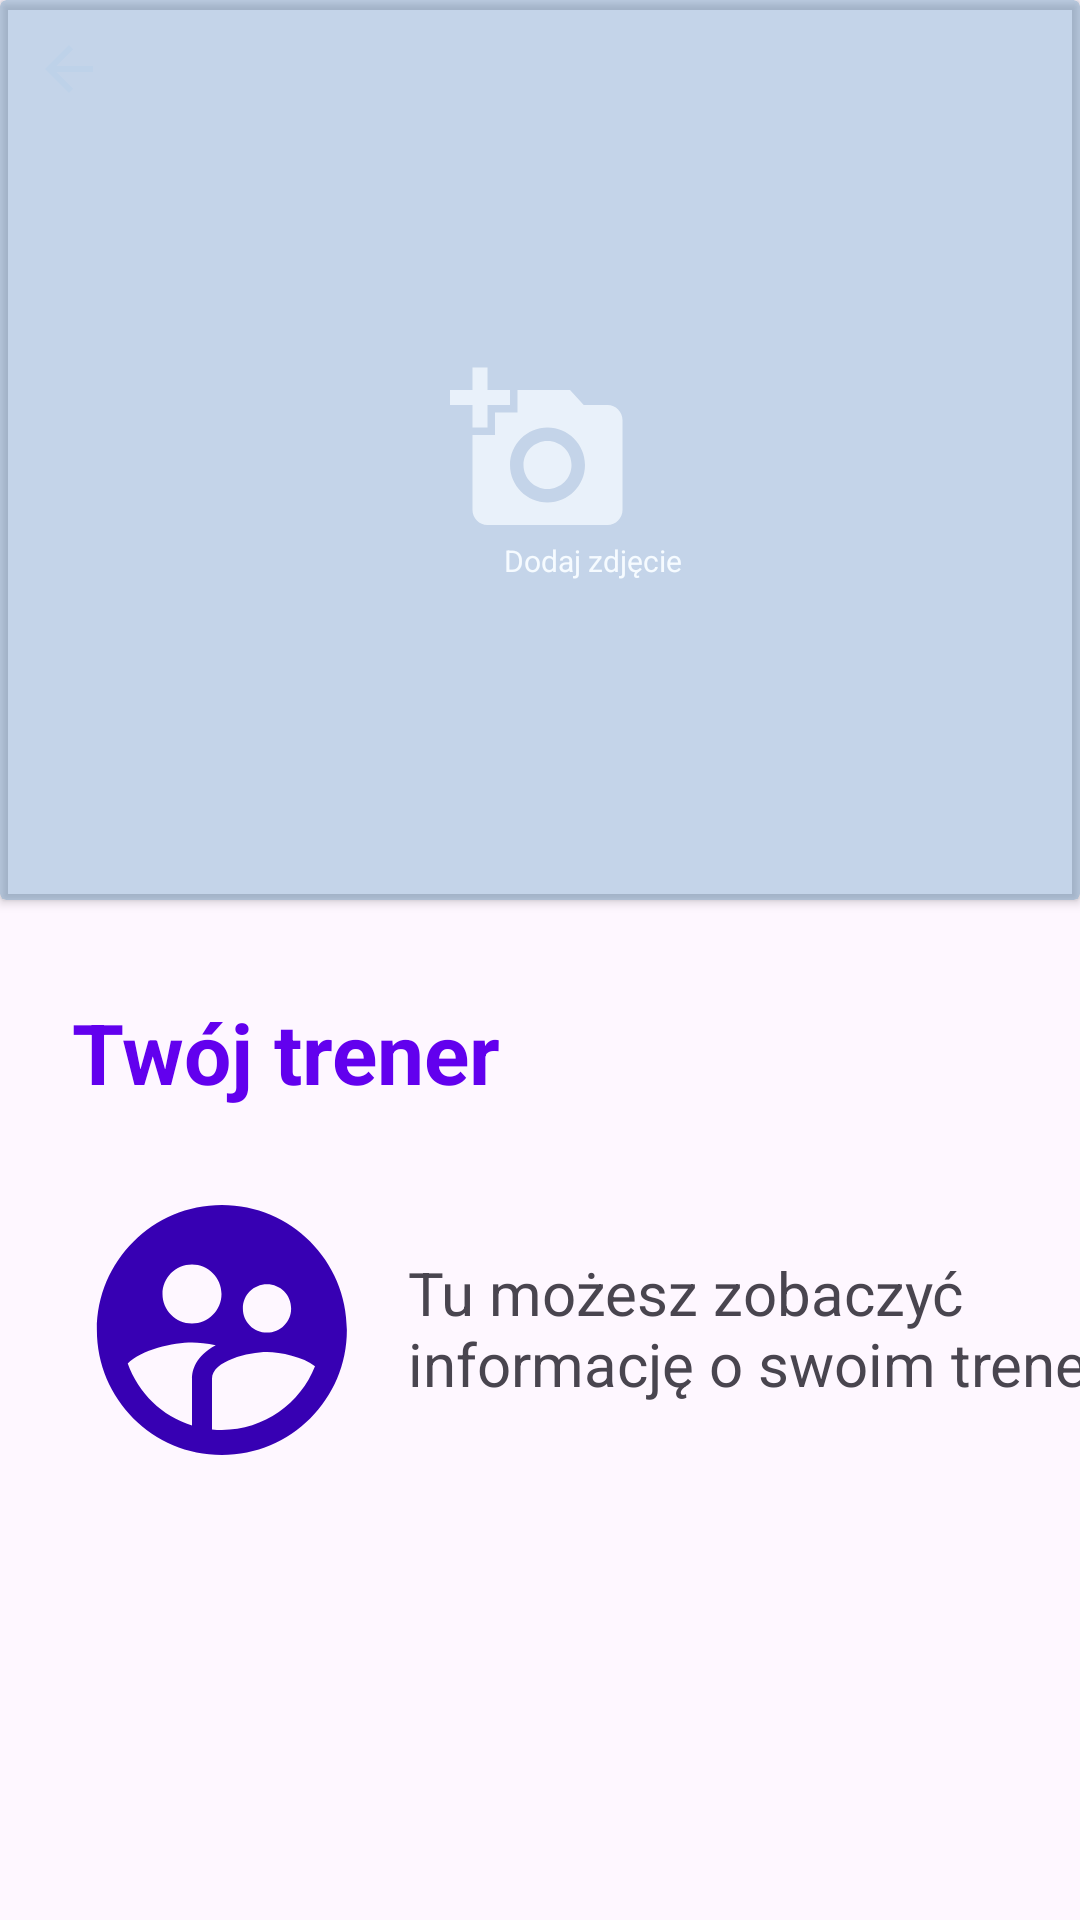

Named icons in this screenshot (1080px x 1920px) and their bounding boxes, (x1, y1, x2, y2):
supervised user circle: (96, 1205, 347, 1455)
